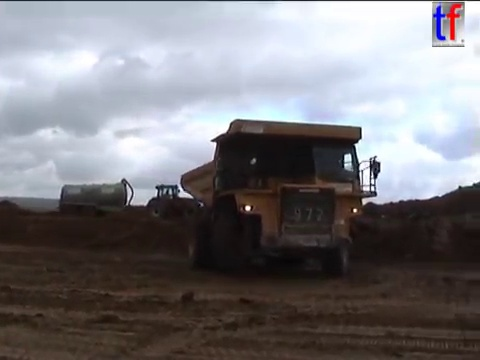truck: (178, 116, 384, 279), (55, 176, 204, 222)
